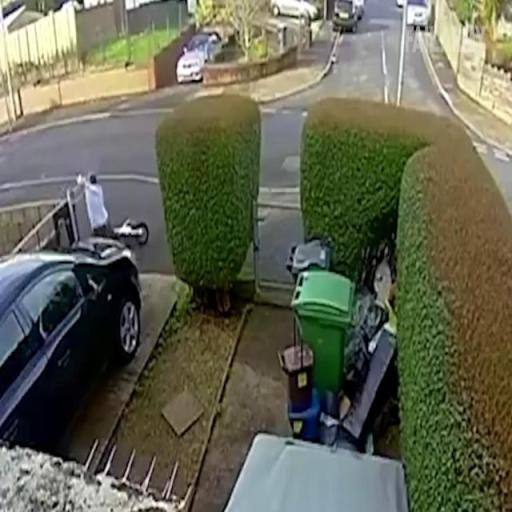Fall: (76, 170, 112, 239)
